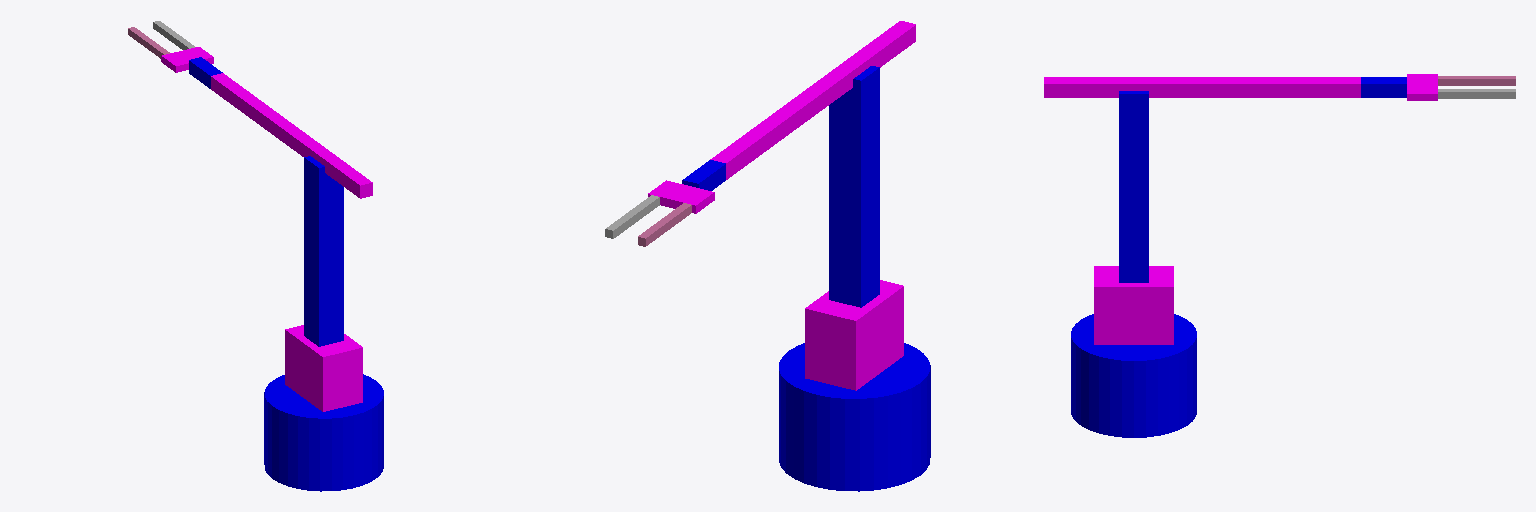
The robot description file, URDF, robot "ebamk2":
<?xml version="1.0"?>
<robot name="ebamk2">
  <link name="base_link">
    <visual>
      <origin xyz="0 0 0.0275" rpy="0 0 0" />
      <geometry>
        <cylinder length="0.055" radius="0.041"/>
      </geometry>
      <material name="blue"/>
    </visual>
  </link>

  <joint name="joint_1" type="revolute">
    <origin xyz="0 0 0.07575" rpy="0 0 0" />
    <parent link="base_link" />
    <child link="link_1" />
    <axis xyz="0 0 1" />
    <limit
      effort="0"
      velocity="0"
      lower="-0.7854" upper="0.7854"/>
      <!--   [-45,45]-->
  </joint>

  <link name="link_1">
    <visual>
      <origin xyz="0 0 0" rpy="0 0 0" />
      <geometry>
        <box size="0.032 0.052 0.0415" />
      </geometry>
      <material name="red" />
    </visual>
  </link>

  <joint name="joint_2" type="revolute">
    <origin xyz="0 0 0.02075" rpy="0 0 0" />
    <parent link="link_1" />
    <child link="link_2" />
    <axis xyz="1 0 0" />
    <limit
      effort="0"
      velocity="0"
      lower="-0.6109" upper="0.9599"/>
      <!--   [-35,55]-->
  </joint>

  <link name="link_2">
    <visual>
      <origin xyz="0 0 0.0675" rpy="0 0 0" />
      <geometry>
        <box size="0.02 0.02 0.135" />
      </geometry>
      <material name="blue" />
    </visual>
  </link>

  <joint name="joint_3" type="revolute">
    <origin xyz="0 0 0.135" rpy="0 0 0" />
    <parent link="link_2" />
    <child link="link_3" />
    <axis xyz="1 0 0" />
    <limit
      effort="0"
      velocity="0"
      lower="-1.2217" upper="0.3491"/>
      <!--   [-70,20]-->
  </joint>

  <link name="link_3">
    <visual>
      <origin xyz="0 0.0445 0" rpy="0 0 0" />
      <geometry>
        <box size="0.01 0.205 0.01" />
      </geometry>
      <material name="red" />
    </visual>
  </link>

  <joint name="joint_4" type="revolute">
    <origin xyz="0 0.147 0" rpy="0 0 0" />
    <parent link="link_3" />
    <child link="link_4" />
    <axis xyz="1 0 0" />
    <limit effort="0" velocity="0" lower="-1.01" upper="1.01"/>
  </joint>

  <link name="link_4">
    <visual>
      <origin xyz="0 0.015 0" rpy="0 0 0" />
      <geometry>
        <box size="0.01 0.03 0.01" />
      </geometry>
      <material name="blue" />
    </visual>
  </link>

  <joint name="joint_5" type="fixed">
    <origin xyz="0 0.04 0" rpy="0 0 0" />
    <parent link="link_4" />
    <child link="claw_base" />
    <axis xyz="1 0 0" />
  </joint>

  <link name="claw_base">
    <visual>
      <origin xyz="0 0 0" rpy="0 0 0" />
      <geometry>
        <box size="0.03 0.02 0.005" />
      </geometry>
      <material name="red" />
    </visual>
  </link>

  <joint name="joint6" type="revolute">
    <axis xyz="0 0 1" />
    <limit effort="1000.0" lower="-0.15" upper="0.45" velocity="1.0" />
    <origin xyz="-0.01 0.01 0" rpy="0 0 0" />
    <parent link="claw_base"/>
    <child link="claw_l"/>
  </joint>

  <joint name="joint7" type="revolute">
    <axis xyz="0 0 -1" />
    <limit effort="1000.0" lower="-0.15" upper="0.45" velocity="1.0" />
    <origin xyz="0.01 0.01 0" rpy="0 0 0" />
    <parent link="claw_base"/>
    <child link="claw_r"/>
    <mimic joint="joint6" multiplier="1.0" offset="0" />
  </joint>

  <link name="claw_l">
    <visual>
      <origin xyz="0 0.025 0" rpy="0 0 0" />
      <geometry>
        <box size="0.005 0.05 0.005" />
      </geometry>
    </visual>
  </link>
  <link name="claw_r">
    <visual>
      <origin xyz="0 0.025 0" rpy="0 0 0" />
      <geometry>
        <box size="0.005 0.05 0.005" />
      </geometry>
    </visual>
  </link>

  <material name="red">
    <color rgba="1 0 1 1"/>
  </material>

  <material name="blue">
    <color rgba="0 0 1 1"/>
  </material>

</robot>

--- Facts derived from the render (not from the file) ---
Views: 3 orthographic renders of the robot side by side, from view 1: azimuth 30°, elevation 25°; view 2: azimuth 150°, elevation 25°; view 3: azimuth 270°, elevation 25°.
Model ebamk2 with 8 links and 7 joints (6 revolute, 1 fixed), rooted at base_link, posed every joint at zero.
Links seen in each view (by area): view 1: base_link, link_2, link_1, link_3, claw_base, link_4; view 2: base_link, link_2, link_1, link_3, claw_base, link_4, claw_r, claw_l; view 3: base_link, link_3, link_1, link_2, link_4, claw_base, claw_l, claw_r.
Link boxes in pixels (bbox=[...]): base_link: bbox=[264, 374, 383, 491]; link_2: bbox=[304, 156, 343, 346]; link_1: bbox=[285, 325, 362, 411]; link_3: bbox=[211, 73, 372, 198]; claw_base: bbox=[161, 47, 213, 72]; link_4: bbox=[189, 57, 222, 88]; base_link: bbox=[779, 343, 930, 491]; link_2: bbox=[829, 66, 879, 307]; link_1: bbox=[805, 280, 903, 390]; link_3: bbox=[710, 21, 915, 179]; claw_base: bbox=[648, 180, 714, 213]; link_4: bbox=[682, 160, 725, 190]; claw_r: bbox=[605, 195, 659, 238]; claw_l: bbox=[638, 203, 691, 246]; base_link: bbox=[1071, 314, 1196, 437]; link_3: bbox=[1044, 77, 1360, 97]; link_1: bbox=[1094, 266, 1173, 344]; link_2: bbox=[1119, 91, 1148, 282]; link_4: bbox=[1361, 77, 1406, 97]; claw_base: bbox=[1407, 74, 1437, 100]; claw_l: bbox=[1438, 76, 1515, 85]; claw_r: bbox=[1438, 89, 1515, 98].
Bounding box of the posed robot: 0.082 × 0.305 × 0.2365 m (x, y, z).
Geometry: primitives only (box / cylinder / sphere), no mesh files.
